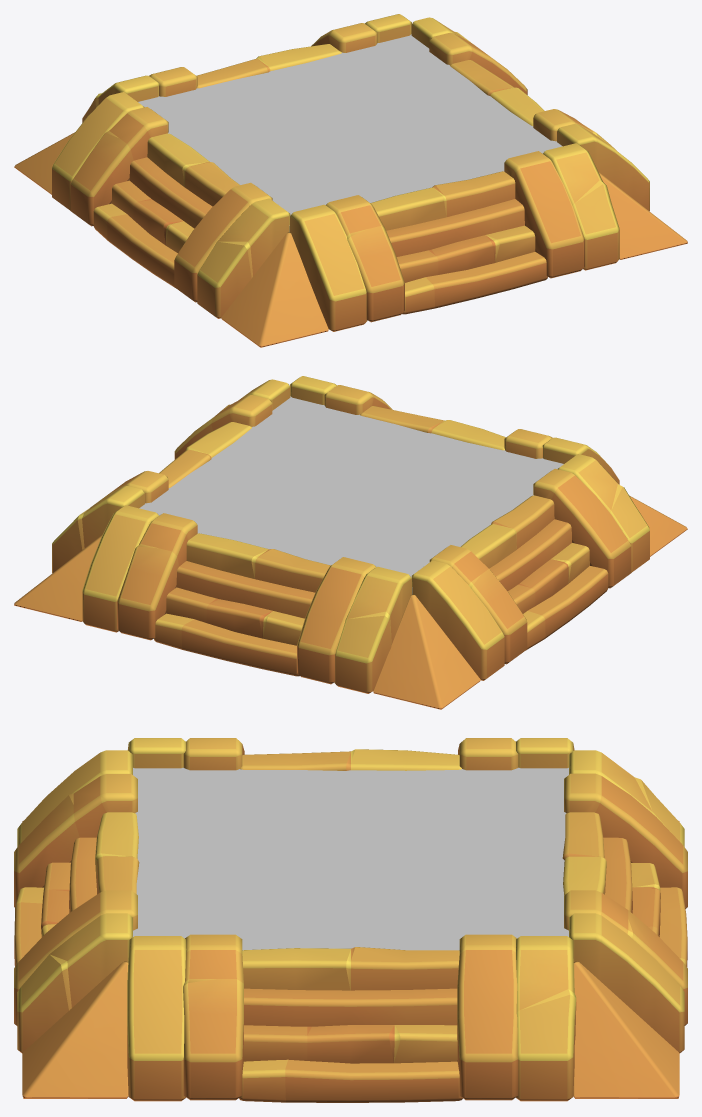
File: pedistol_01.fbx
3 renders of one model, top to bottom at view 1: azimuth 30°, elevation 25°; view 2: azimuth 150°, elevation 25°; view 3: azimuth 270°, elevation 25°, orthographic. The views are drawn at different scales.
Parts seen in each view (by area): view 1: pedistol_01, pedistol_01_ground_block; view 2: pedistol_01, pedistol_01_ground_block; view 3: pedistol_01, pedistol_01_ground_block.
Part boxes in pixels (left/top/right/bottom): pedistol_01: left=14, top=14, right=687, bottom=347; pedistol_01_ground_block: left=138, top=34, right=562, bottom=232; pedistol_01: left=14, top=376, right=687, bottom=709; pedistol_01_ground_block: left=139, top=396, right=563, bottom=594; pedistol_01: left=14, top=738, right=687, bottom=1102; pedistol_01_ground_block: left=133, top=767, right=568, bottom=950.
Bounding box in the file's own units: 611 × 121 × 611.
